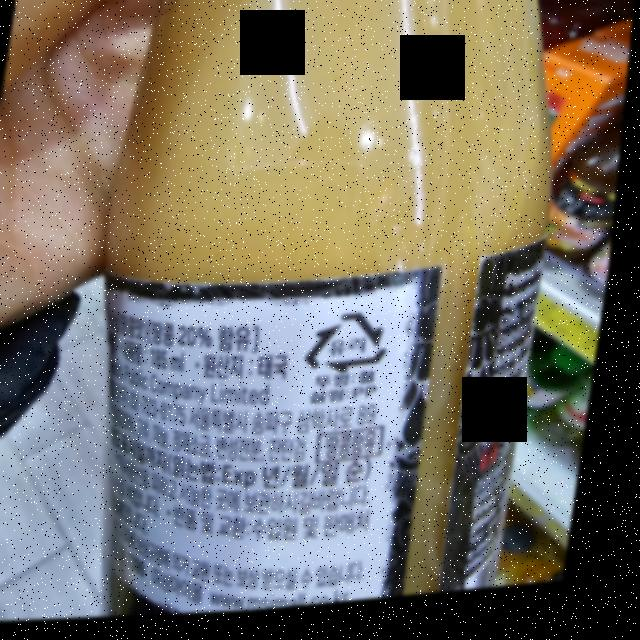Glass: (308, 306, 409, 388)
